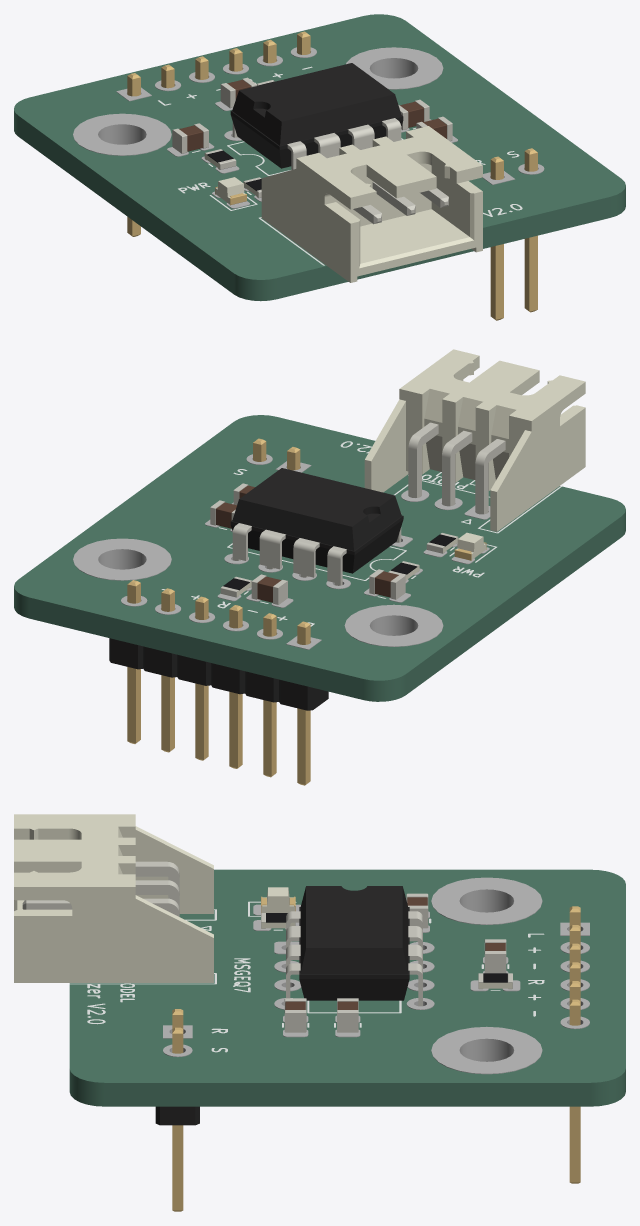
Rendered from dfrobot-module.glb.
3 renders of one model, top to bottom at view 1: azimuth 30°, elevation 25°; view 2: azimuth 150°, elevation 25°; view 3: azimuth 270°, elevation 25°, orthographic. The views are drawn at different scales.
Parts seen in each view (by area): view 1: =>[0:1:1:12], J1, U1, =>[0:1:1:9], J4, J2J3, =>[0:1:1:10], C1, C2, D1, C4, C3 (+1 smaller); view 2: =>[0:1:1:12], J1, U1, J2J3, =>[0:1:1:9], =>[0:1:1:10], C4, C1, D1, J4; view 3: =>[0:1:1:12], J1, U1, =>[0:1:1:9], J4, J2J3, =>[0:1:1:10], C3, C4, D1, C2, R3 (+1 smaller).
Part boxes in pixels (x1,y1,x2,y2): =>[0:1:1:12]: [14, 14, 625, 301]; J1: [261, 126, 482, 282]; U1: [230, 63, 403, 169]; =>[0:1:1:9]: [73, 47, 544, 208]; J4: [490, 148, 537, 320]; J2J3: [127, 31, 310, 236]; =>[0:1:1:10]: [158, 66, 522, 265]; C1: [172, 123, 208, 153]; C2: [398, 99, 429, 130]; D1: [215, 177, 246, 205]; C4: [220, 77, 256, 108]; C3: [416, 116, 452, 141]; =>[0:1:1:12]: [14, 415, 625, 701]; J1: [364, 349, 585, 531]; U1: [230, 468, 403, 585]; J2J3: [109, 580, 328, 785]; =>[0:1:1:9]: [73, 454, 490, 649]; =>[0:1:1:10]: [161, 441, 562, 626]; C4: [251, 574, 287, 604]; C1: [369, 569, 405, 599]; D1: [454, 532, 486, 560]; J4: [253, 438, 300, 470]; =>[0:1:1:12]: [69, 869, 625, 1106]; J1: [14, 814, 213, 982]; U1: [286, 886, 422, 1006]; =>[0:1:1:9]: [163, 877, 589, 1074]; J4: [155, 1009, 199, 1211]; J2J3: [569, 906, 580, 1183]; =>[0:1:1:10]: [70, 901, 544, 1052]; C3: [284, 998, 306, 1032]; C4: [484, 939, 506, 973]; D1: [261, 887, 295, 912]; C2: [337, 998, 358, 1032]; R3: [478, 973, 512, 989].
Bounding box in the file's own units: 0.029 × 0.0163 × 0.0352.
